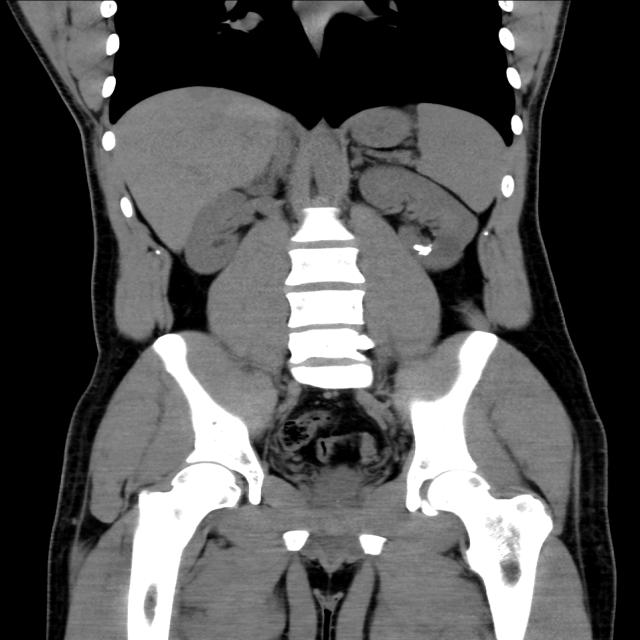kidneystone: (412, 244, 432, 256)
